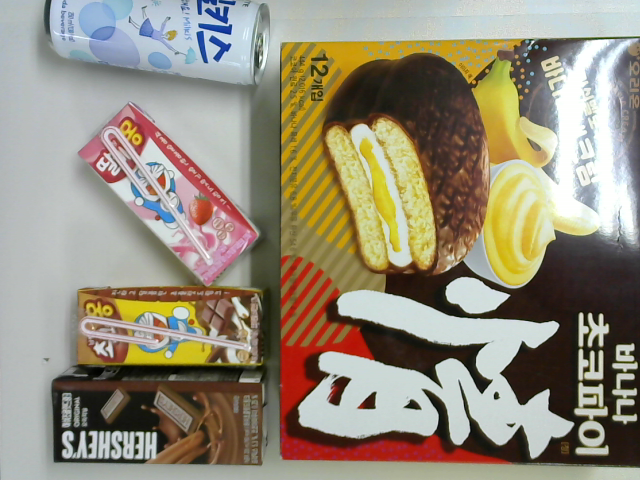Choco_E_Mong: (74, 287, 266, 367)
Choco_Pie_Banana: (279, 37, 640, 468)
Hush_Choco_Drink: (52, 366, 270, 465)
Milkies_250ml: (42, 1, 271, 88)
Strawberry_E_Mong: (77, 103, 262, 287)
